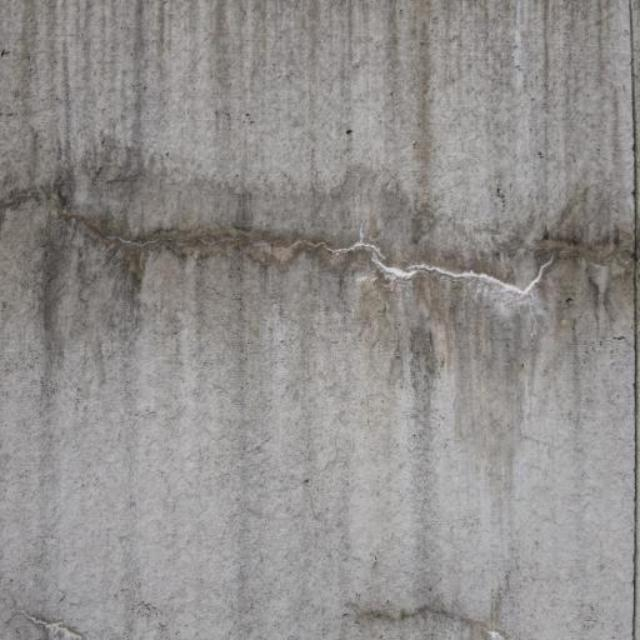D01: (66, 214, 585, 296)
